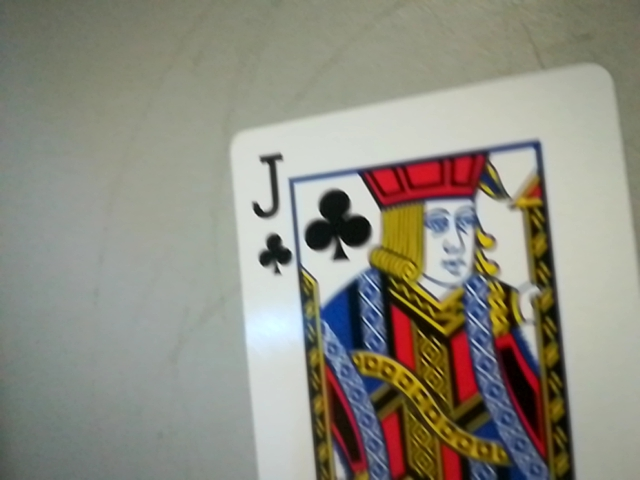mh j: (240, 141, 300, 280)
